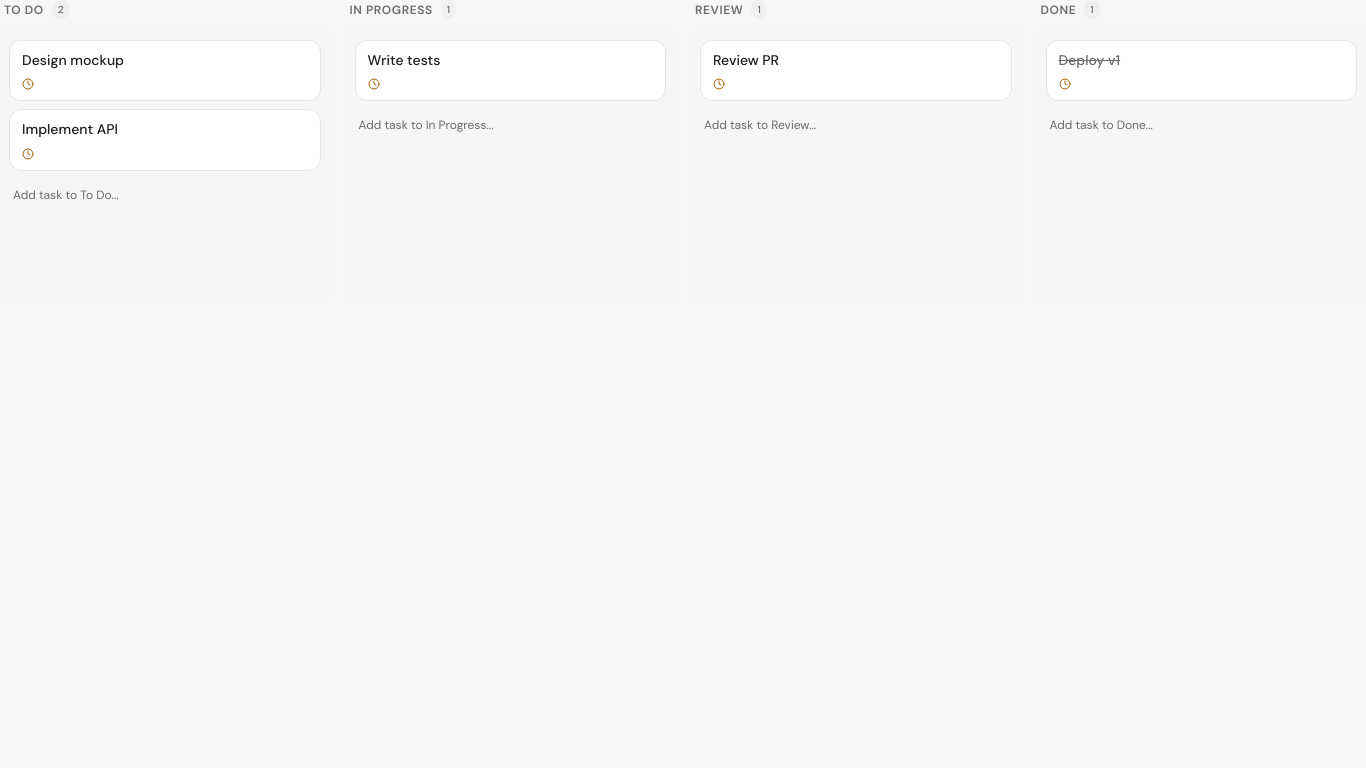
Test: KanbanBoard task selection › opens detail drawer when clicking a task button
Click the task button by its accessible name
Click the button "Design mockup" at (73, 60), box [9, 40, 320, 101]
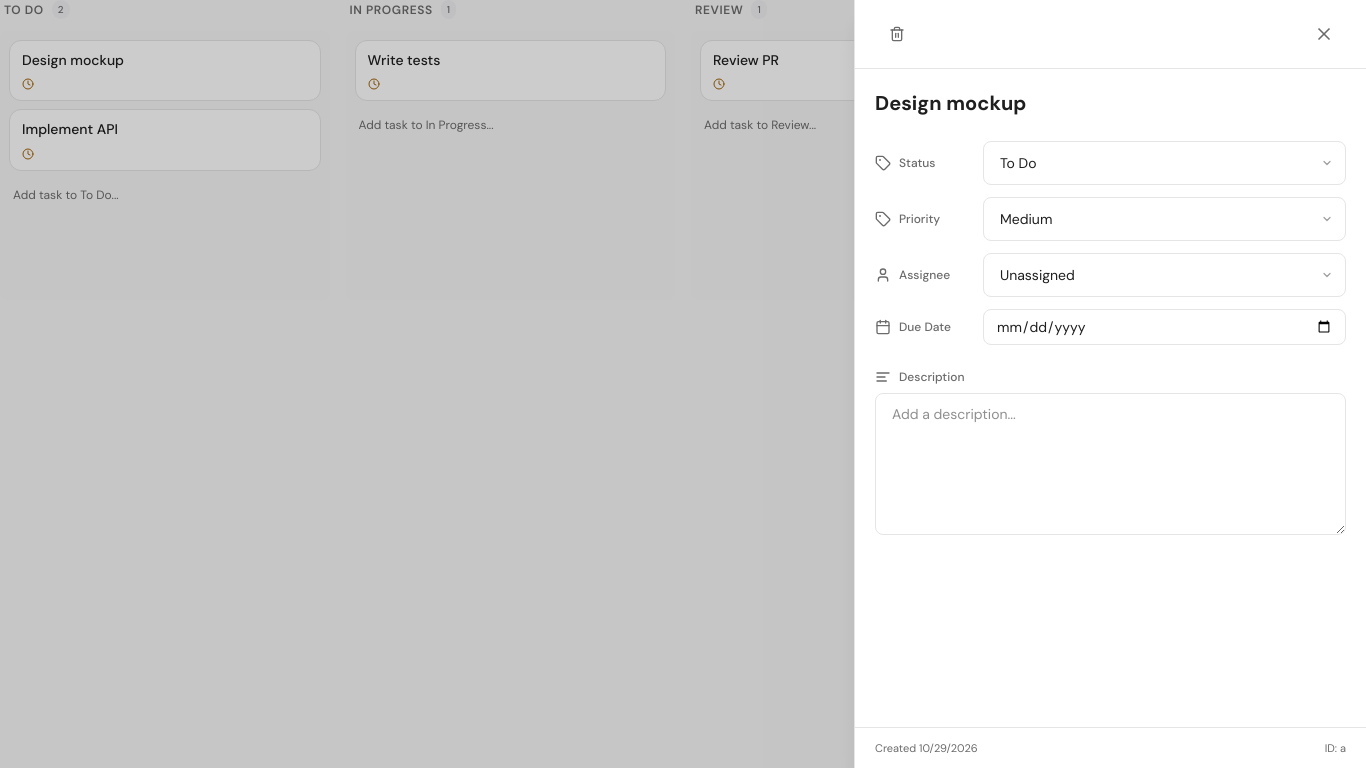
expect the field with placeholder "Task title" holds "Design mockup": met, box [875, 89, 1346, 117]
